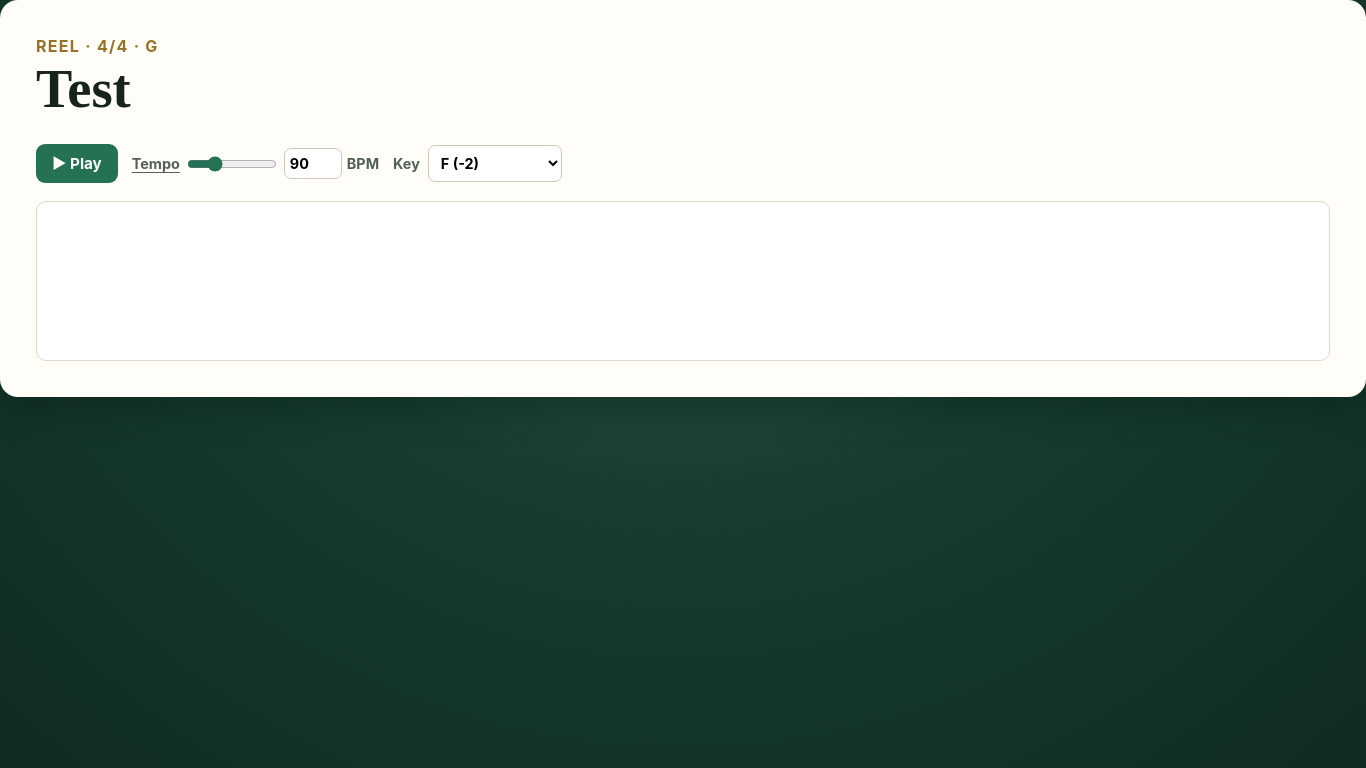
TuneDetail › restores settings and resets tempo by clicking its label
Expected: the number field named "Tempo in BPM" holds "90", [284,148,342,179]
Click the button "Tempo".
click(156, 164)  # box [132,155,180,172]
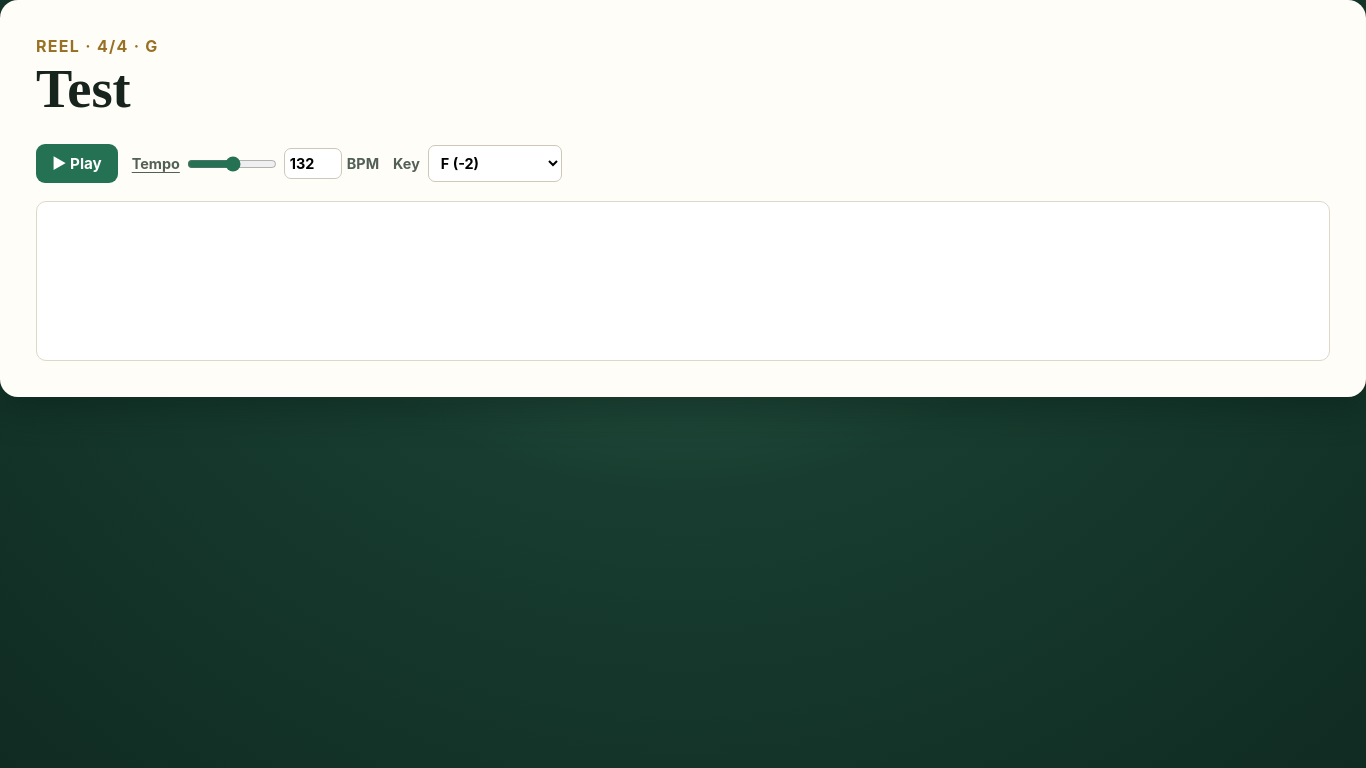
Expected: the dropdown labelled "Key" shows "F (-2)", [428,145,562,182]
Expected: the number field named "Tempo in BPM" holds "132", [284,148,342,179]
